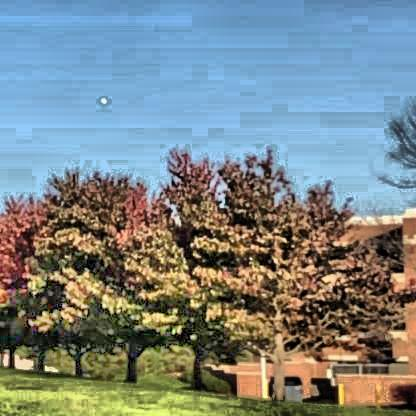golfball: (97, 95, 105, 103)
